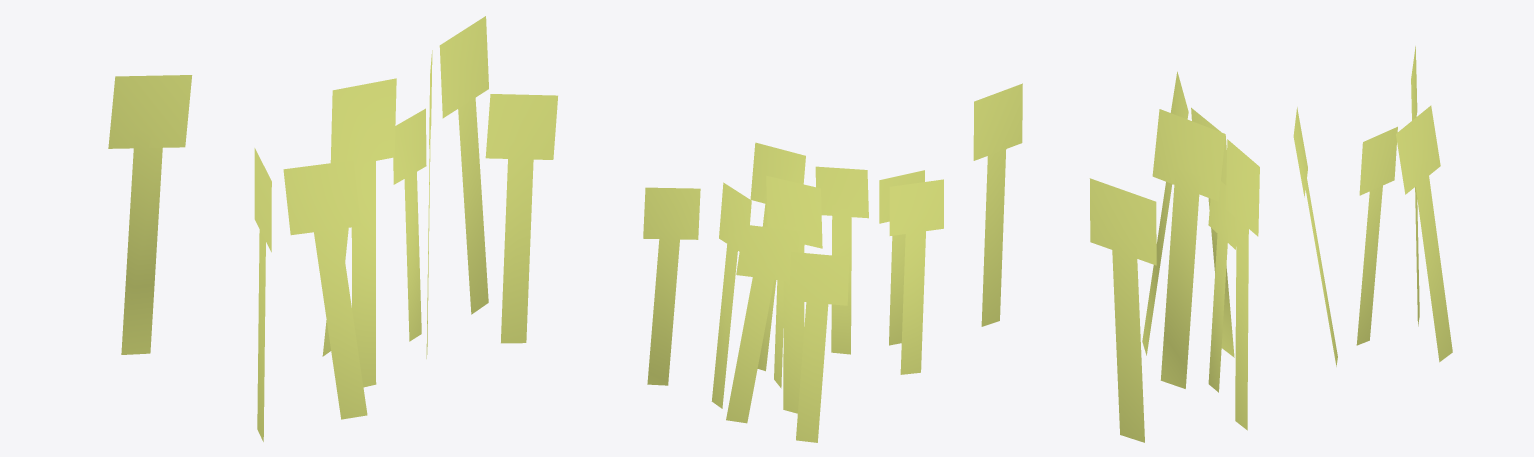
File: flower-2.glb
3 renders of one model, left to right at view 1: azimuth 30°, elevation 25°; view 2: azimuth 150°, elevation 25°; view 3: azimuth 270°, elevation 25°, orthographic. The views are drawn at different scales.
Visible parts, largest first — view 1: Node; view 2: Node; view 3: Node.
Part boxes in pixels (x1,y1,x2,y2): Node: (108,16,557,441); Node: (643,83,1022,442); Node: (1089,46,1452,442).
Bounding box in the file's own units: 0.5467 × 0.3607 × 0.5562.
